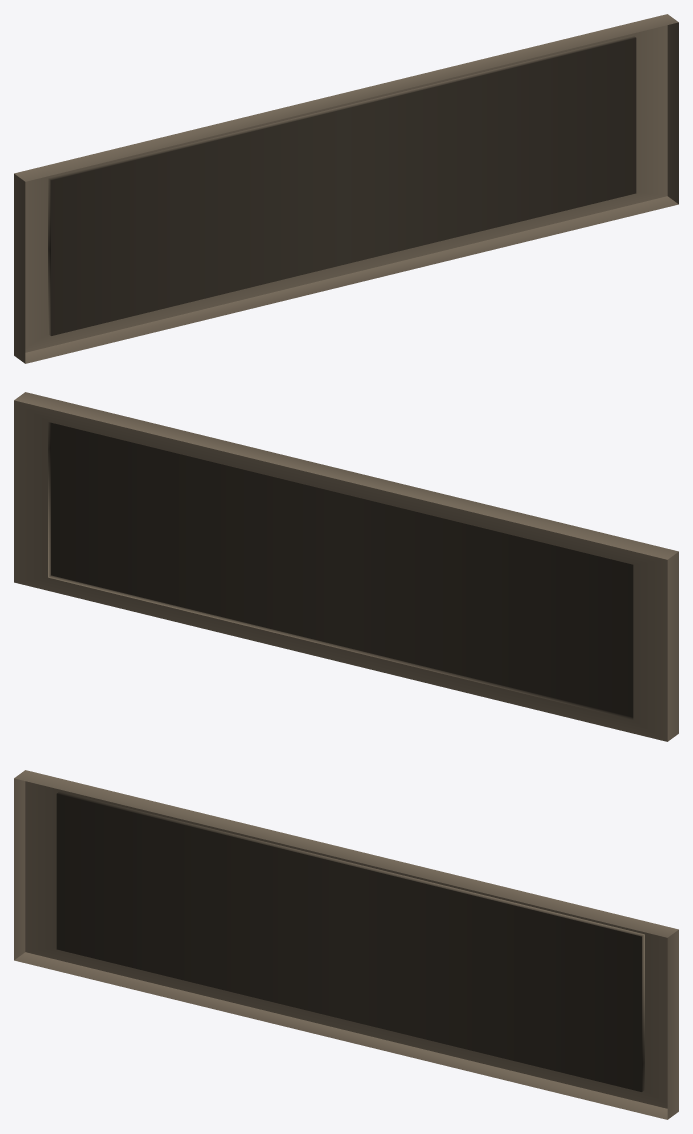
Rendered from Lift_window.fbx.
The picture shows the model from 3 angles, top to bottom: view 1: azimuth 30°, elevation 25°; view 2: azimuth 150°, elevation 25°; view 3: azimuth 330°, elevation 25°; orthographic projection.
Visible parts, largest first — view 1: Lift_window; view 2: Lift_window; view 3: Lift_window.
Part boxes in pixels (box(x1,y1,x2,y2)): Lift_window: box(14, 14, 678, 363); Lift_window: box(14, 392, 678, 741); Lift_window: box(14, 770, 678, 1119).
Bounding box in the file's own units: 2.71 × 0.082 × 0.7206.
